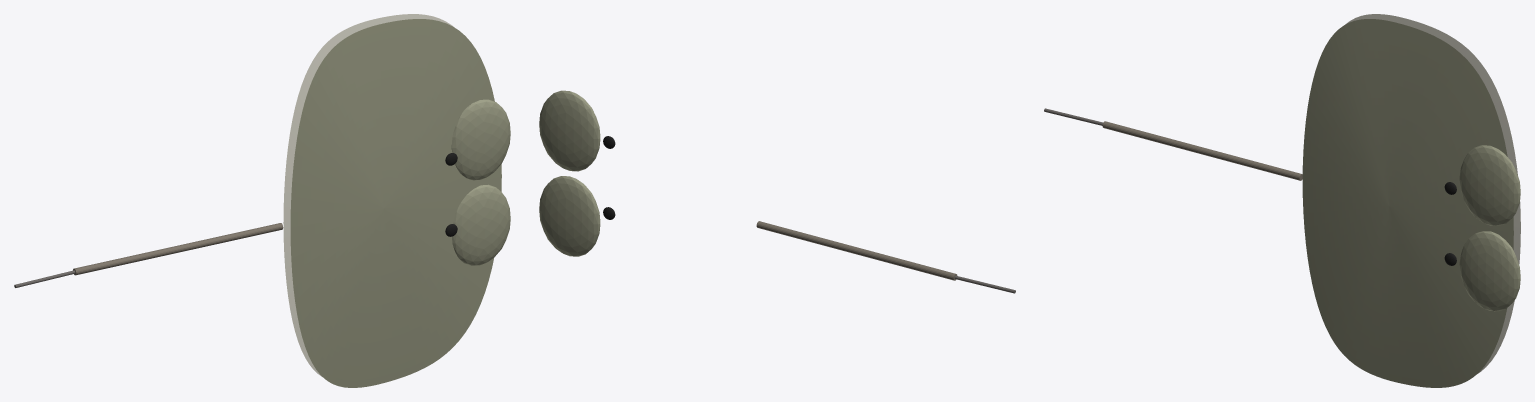
File: cownose_ray_approx.glb
The picture shows the model from 3 angles, left to right: view 1: azimuth 30°, elevation 25°; view 2: azimuth 150°, elevation 25°; view 3: azimuth 330°, elevation 25°; orthographic projection.
Visible parts, largest first — view 1: cownose_ray_top_disc, ray_head_lobe_left, ray_head_lobe_right, cownose_ray_pale_bottom, ray_tail; view 2: ray_head_lobe_right, ray_head_lobe_left, ray_tail; view 3: cownose_ray_top_disc, ray_head_lobe_left, ray_head_lobe_right, cownose_ray_pale_bottom, ray_tail.
Part boxes in pixels (x1,y1,x2,y2): cownose_ray_top_disc: (290,19,501,387); ray_head_lobe_left: (451,99,510,180); ray_head_lobe_right: (452,184,510,265); cownose_ray_pale_bottom: (283,14,454,377); ray_tail: (73,223,283,275); ray_head_lobe_right: (539,176,600,256); ray_head_lobe_left: (539,90,600,171); ray_tail: (756,221,957,280); cownose_ray_top_disc: (1302,19,1513,387); ray_head_lobe_left: (1459,145,1520,225); ray_head_lobe_right: (1459,231,1520,311); cownose_ray_pale_bottom: (1345,14,1520,373); ray_tail: (1102,121,1302,180).
Size of the model in its own units: 2.86 by 2.03 by 0.1887.
